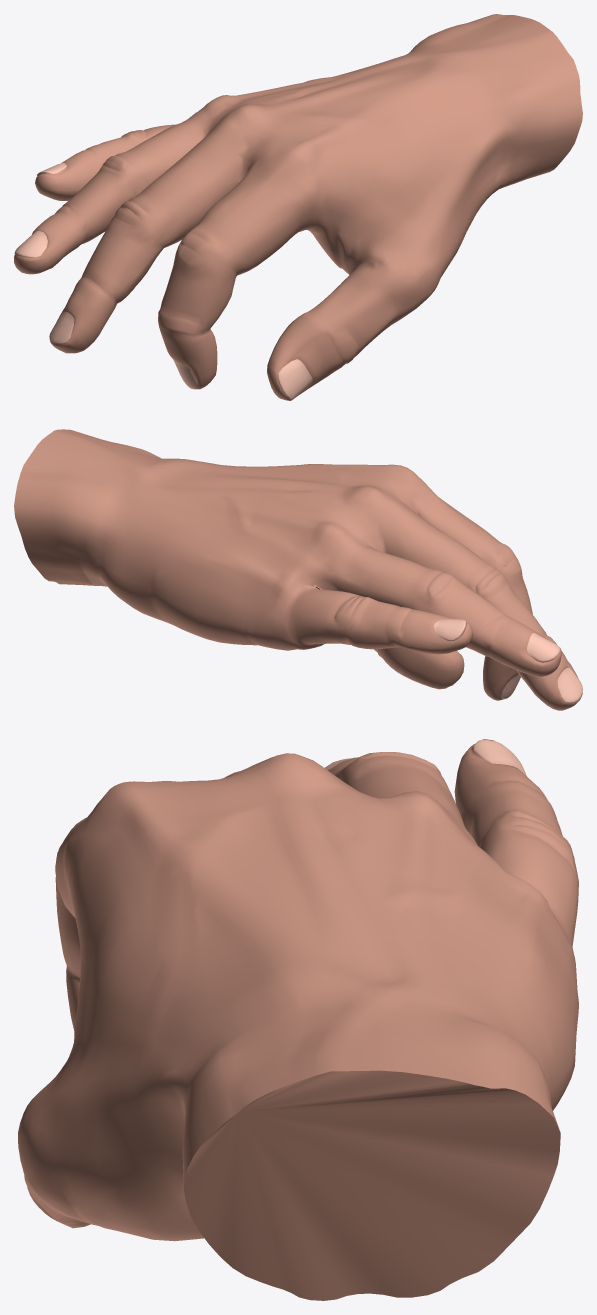
The model's file is hand_08.obj.
3 renders of one model, top to bottom at view 1: azimuth 30°, elevation 25°; view 2: azimuth 150°, elevation 25°; view 3: azimuth 270°, elevation 25°, orthographic. The views are drawn at different scales.
Parts seen in each view (by area): view 1: Figure_2; view 2: Figure_2; view 3: Figure_2.
Boxes of the visible parts, <box> form: Figure_2: <box>14,14,582,400</box>; Figure_2: <box>14,429,582,710</box>; Figure_2: <box>18,739,578,1300</box>.
Bounding box in the file's own units: 0.8497 × 0.374 × 0.4029.
